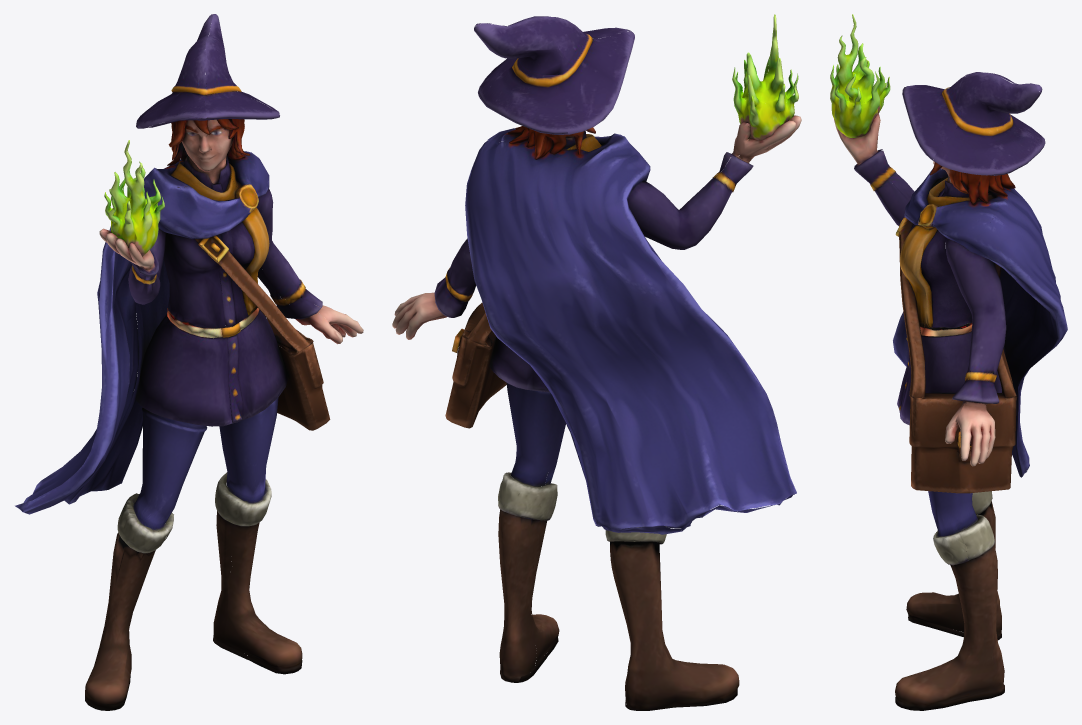
Rendered from MZ4250 - Human Wizard Female.glb.
3 views of the same model, side by side, from view 1: azimuth 30°, elevation 25°; view 2: azimuth 150°, elevation 25°; view 3: azimuth 270°, elevation 25° (orthographic). The views are drawn at different scales.
Parts seen in each view (by area): view 1: Body.001_Body.001, Cape_Base.001, Wizard_Hat.001, Satchel.001, Sphere.001, Cube.001; view 2: Cape_Base.001, Body.001_Body.001, Wizard_Hat.001, Satchel.001, Sphere.001; view 3: Body.001_Body.001, Cape_Base.001, Wizard_Hat.001, Satchel.001, Sphere.001, Cube.001.
Boxes of the visible parts, x1,y1,x2,y2 form: Body.001_Body.001: [85, 83, 363, 710]; Cape_Base.001: [15, 151, 269, 514]; Wizard_Hat.001: [136, 14, 279, 128]; Satchel.001: [195, 235, 330, 430]; Sphere.001: [104, 140, 164, 256]; Cube.001: [170, 161, 269, 315]; Cape_Base.001: [465, 128, 796, 534]; Body.001_Body.001: [392, 115, 801, 710]; Wizard_Hat.001: [474, 16, 634, 134]; Satchel.001: [445, 302, 506, 428]; Sphere.001: [732, 14, 798, 140]; Body.001_Body.001: [834, 113, 1015, 710]; Cape_Base.001: [893, 168, 1067, 477]; Wizard_Hat.001: [902, 72, 1045, 175]; Satchel.001: [895, 177, 1016, 493]; Sphere.001: [830, 14, 890, 137]; Cube.001: [899, 177, 996, 327].
Bounding box in the file's own units: 4.28 × 6.99 × 2.46.
Materials: 1 (1 with a texture image).
